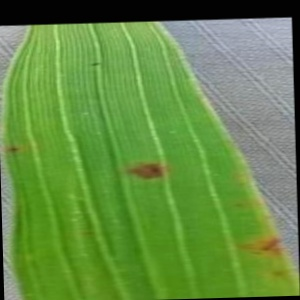Bacterial_Leaf_Blight: (119, 155, 170, 188), (241, 233, 287, 259), (260, 236, 286, 256), (84, 57, 108, 71), (269, 266, 289, 282), (5, 143, 25, 157), (230, 198, 247, 212), (241, 242, 258, 252), (253, 250, 264, 257)
